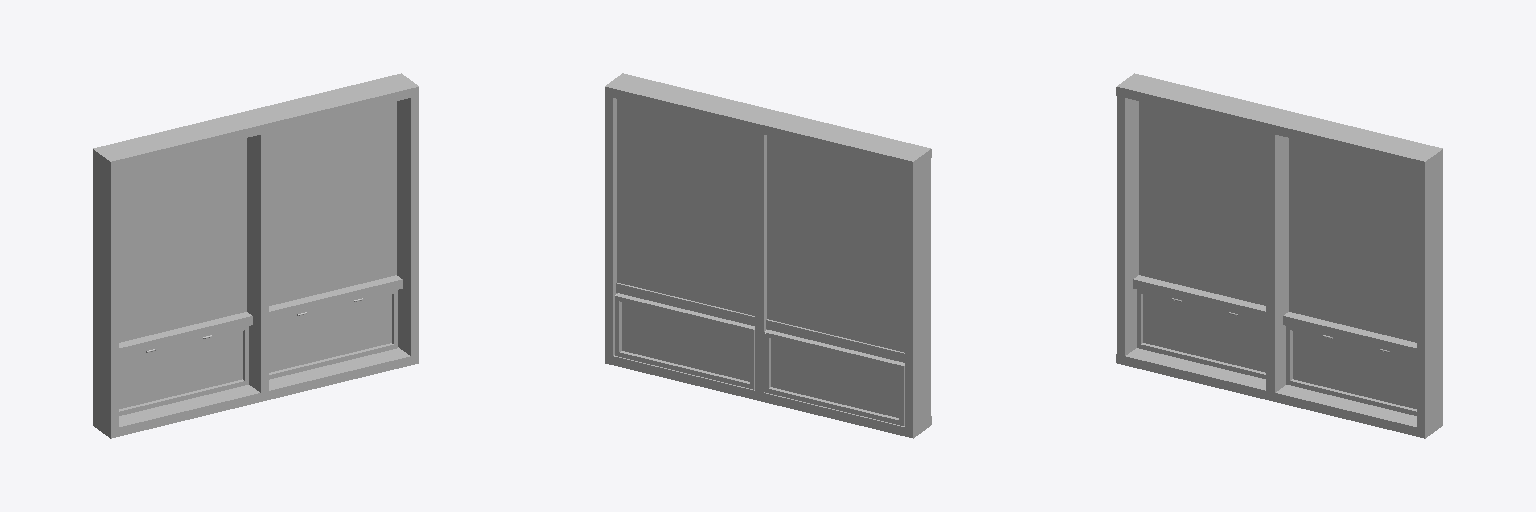
File: window.obj
3 renders of one model, left to right at view 1: azimuth 30°, elevation 25°; view 2: azimuth 150°, elevation 25°; view 3: azimuth 330°, elevation 25°, orthographic.
Parts seen in each view (by area): view 1: Box30, Box31, Box21, Box12, Box24, Box35, Box13, Box20, Box15, Box14, Box04, Box32; view 2: Box31, Box30, Box21, Box12, Box35, Box24, Box13, Box20, Box15, Box14, Box02, Box36 (+2 smaller); view 3: Box31, Box30, Box21, Box20, Box35, Box24, Box13, Box15, Box12, Box14, Box32, Box04.
Part boxes in pixels (x1,y1,x2,y2): Box30: (119, 138, 246, 342); Box31: (269, 101, 396, 305); Box21: (93, 73, 418, 170); Box12: (93, 149, 118, 438); Box24: (119, 331, 242, 408); Box35: (269, 294, 391, 372); Box13: (111, 347, 418, 438); Box20: (397, 78, 418, 355); Box15: (247, 133, 268, 392); Box14: (119, 275, 402, 357); Box04: (119, 379, 248, 415); Box32: (269, 343, 397, 379); Box31: (617, 99, 754, 315); Box30: (767, 135, 904, 352); Box21: (605, 73, 931, 170); Box12: (905, 149, 930, 438); Box35: (622, 302, 749, 381); Box24: (771, 339, 898, 417); Box13: (605, 354, 931, 437); Box20: (605, 78, 617, 355); Box15: (755, 133, 766, 392); Box14: (616, 283, 904, 362); Box02: (765, 330, 904, 369); Box36: (616, 293, 754, 332); Box31: (1289, 138, 1416, 342); Box30: (1139, 101, 1265, 305); Box21: (1116, 73, 1442, 170); Box20: (1417, 149, 1442, 438); Box35: (1293, 331, 1416, 408); Box24: (1143, 294, 1265, 372); Box13: (1116, 348, 1424, 438); Box15: (1266, 132, 1288, 392); Box12: (1117, 96, 1138, 355); Box14: (1133, 275, 1416, 357); Box32: (1286, 379, 1416, 415); Box04: (1137, 343, 1265, 378).
Bounding box in the file's own units: 664 × 568 × 67.53.